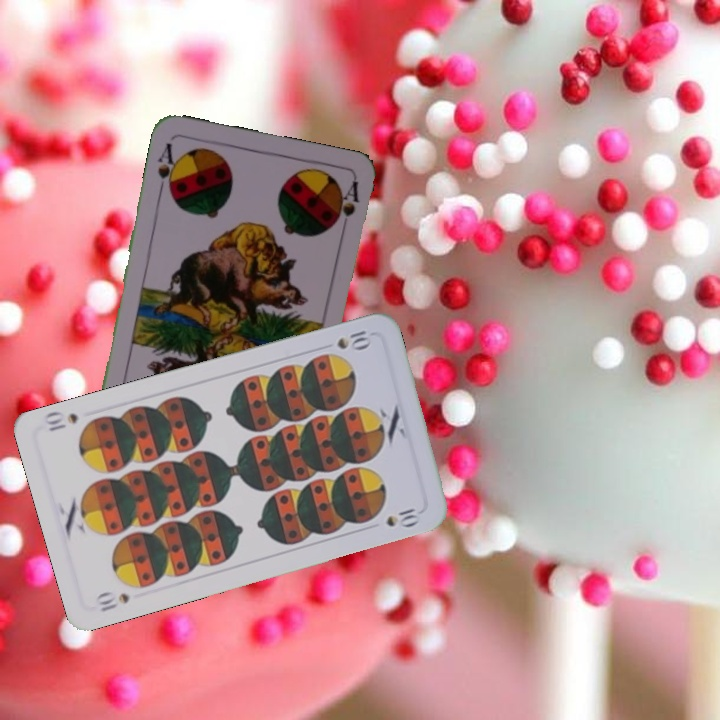S10: (91, 587, 133, 614), (333, 325, 374, 352)
SA: (153, 138, 181, 198)
